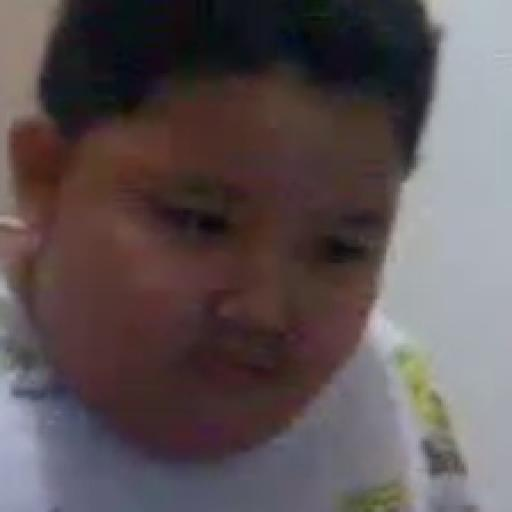Autism: (28, 0, 418, 455)
